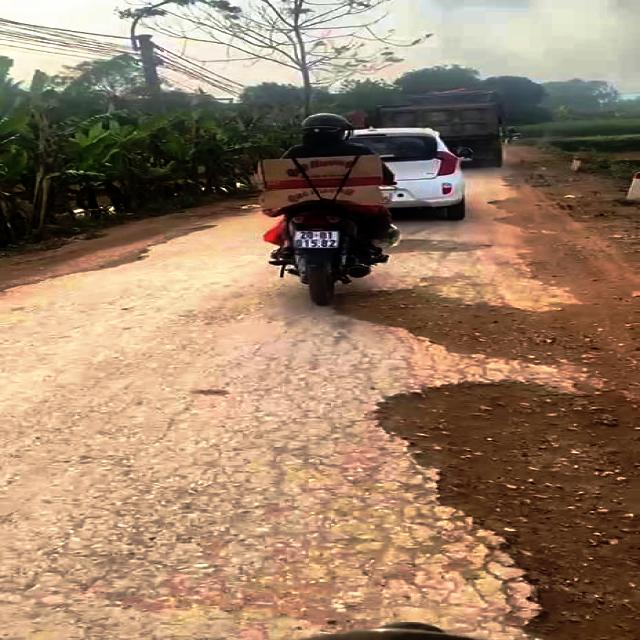pothole: (356, 374, 640, 640), (322, 288, 598, 366), (54, 246, 156, 275), (384, 235, 495, 256)
